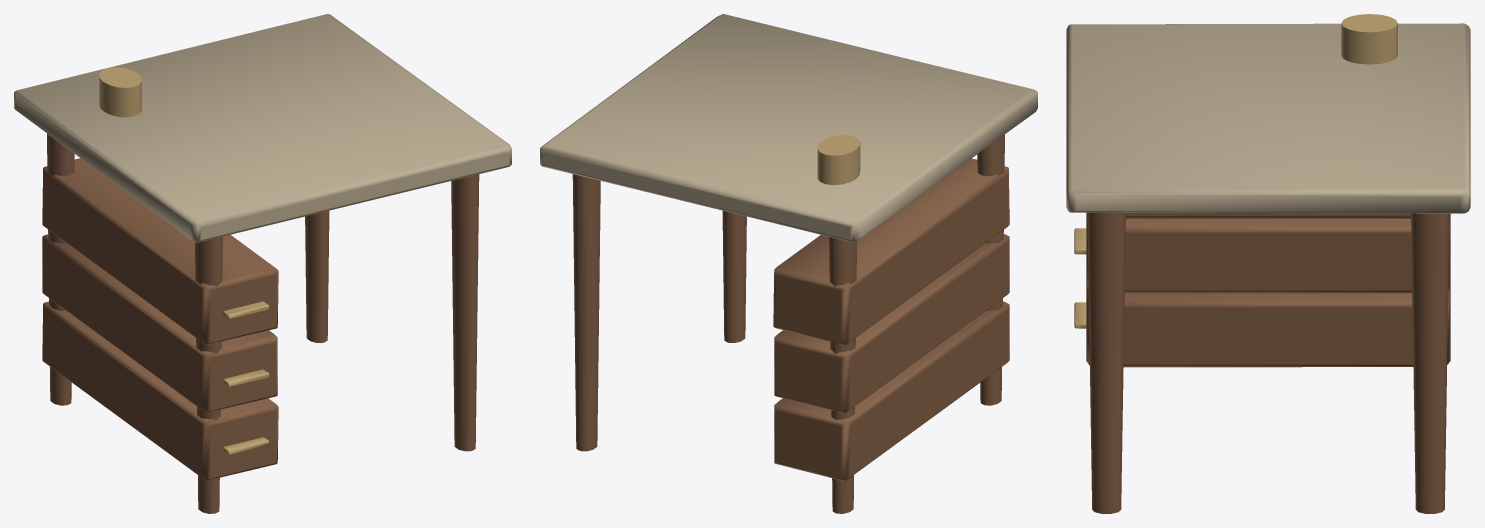
File: classroom-desk.lod.glb
3 renders of one model, left to right at view 1: azimuth 30°, elevation 25°; view 2: azimuth 150°, elevation 25°; view 3: azimuth 270°, elevation 25°, orthographic. The views are drawn at different scales.
Parts seen in each view (by area): view 1: upholstery (×2), part; view 2: upholstery (×2), part; view 3: upholstery (×2), part.
Part boxes in pixels (<box>): upholstery (×2): <box>14,14,511,454</box>; part: <box>42,133,479,513</box>; upholstery (×2): <box>540,14,1037,242</box>; part: <box>572,134,1009,513</box>; upholstery (×2): <box>1066,14,1470,328</box>; part: <box>1086,212,1450,513</box>.
Bounding box in the file's own units: 1 × 1 × 1.
